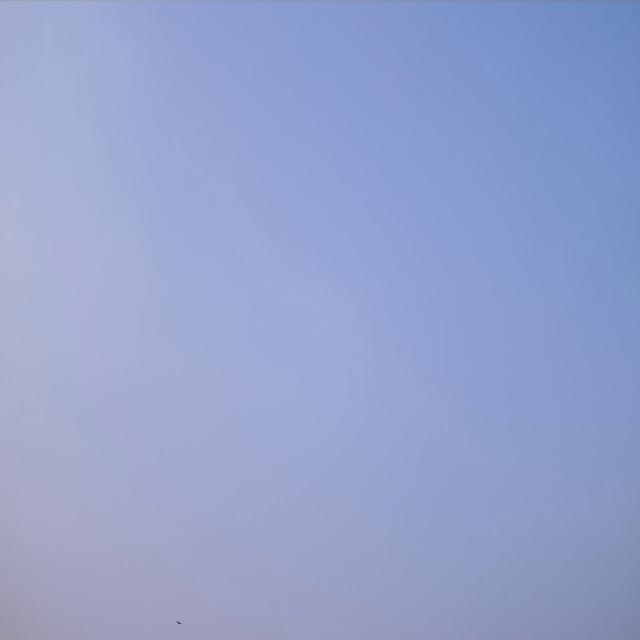UAV: (176, 620, 182, 626)
